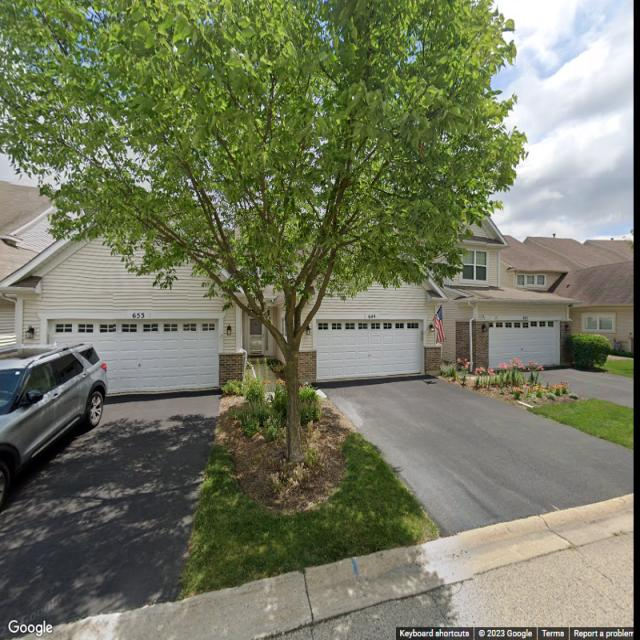House: (0, 178, 633, 398)
